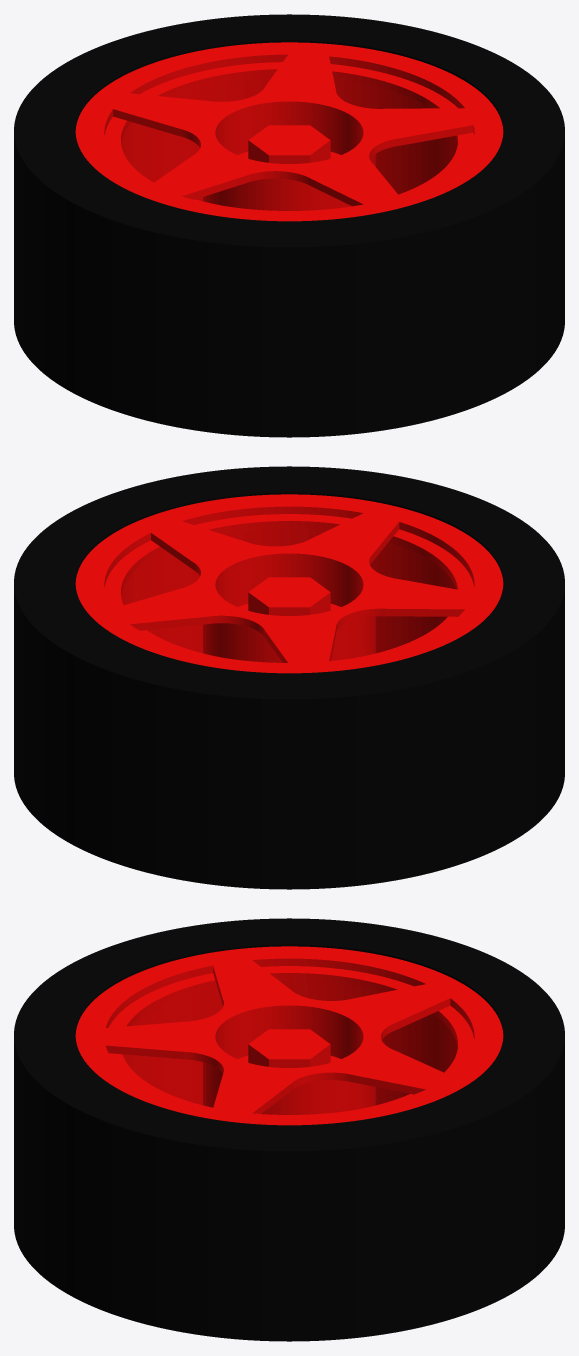
File: WheelRearRight.dae
The picture shows the model from 3 angles, top to bottom: view 1: azimuth 30°, elevation 25°; view 2: azimuth 150°, elevation 25°; view 3: azimuth 270°, elevation 25°; orthographic projection.
Parts seen in each view (by area): view 1: node1, node0; view 2: node1, node0; view 3: node1, node0.
Part boxes in pixels (x1,y1,x2,y2): node1: (14, 14, 564, 437); node0: (75, 42, 503, 221); node1: (14, 466, 564, 889); node0: (75, 494, 503, 673); node1: (14, 918, 564, 1341); node0: (75, 946, 503, 1125).
Bounding box in the file's own units: 0.067 × 0.067 × 0.0268.
